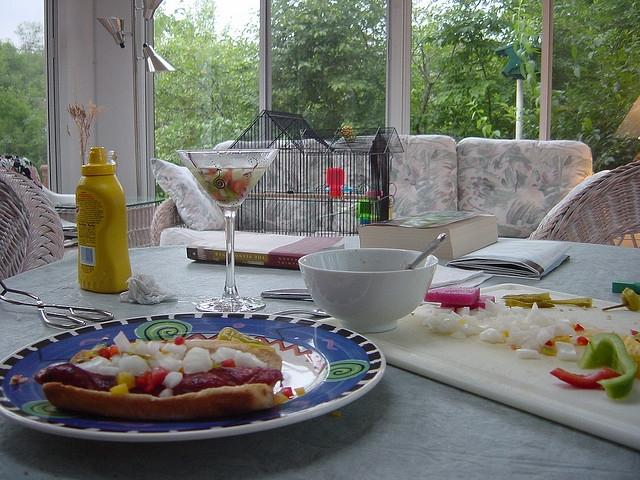bell pepper: (578, 332, 638, 398), (549, 366, 622, 390), (601, 287, 639, 312), (134, 366, 170, 391), (109, 382, 130, 393), (175, 336, 185, 344), (630, 334, 640, 340)
onion: (184, 347, 214, 374), (118, 354, 152, 376), (234, 350, 266, 368), (524, 302, 550, 324), (114, 331, 134, 353), (554, 341, 576, 360), (162, 342, 188, 358), (480, 329, 506, 342), (162, 372, 183, 388), (439, 318, 460, 332), (508, 330, 536, 340), (514, 348, 540, 358), (460, 324, 482, 335), (540, 325, 558, 337), (485, 298, 497, 314), (502, 320, 514, 331), (478, 318, 493, 326), (530, 325, 540, 335), (518, 324, 530, 332), (489, 320, 498, 329), (501, 307, 510, 315)
